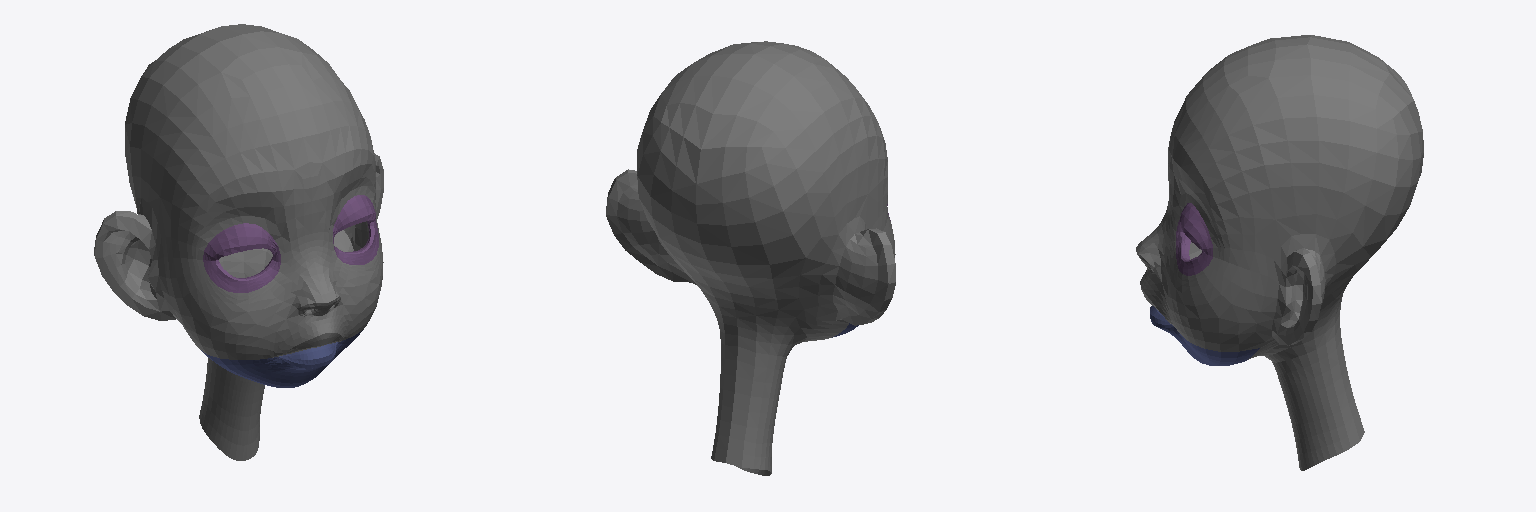
The model's file is head.obj.
The picture shows the model from 3 angles: view 1: azimuth 30°, elevation 25°; view 2: azimuth 150°, elevation 25°; view 3: azimuth 270°, elevation 25°; orthographic projection.
Parts seen in each view (by area): view 1: head_geo head_grp GEO; view 2: head_geo head_grp GEO; view 3: head_geo head_grp GEO.
Boxes of the visible parts, box(x1,y1,x2,y2) form: head_geo head_grp GEO: box(94, 24, 383, 460); head_geo head_grp GEO: box(606, 41, 895, 475); head_geo head_grp GEO: box(1136, 35, 1423, 470).
Size of the model in its own units: 5.74 by 8.03 by 4.96.